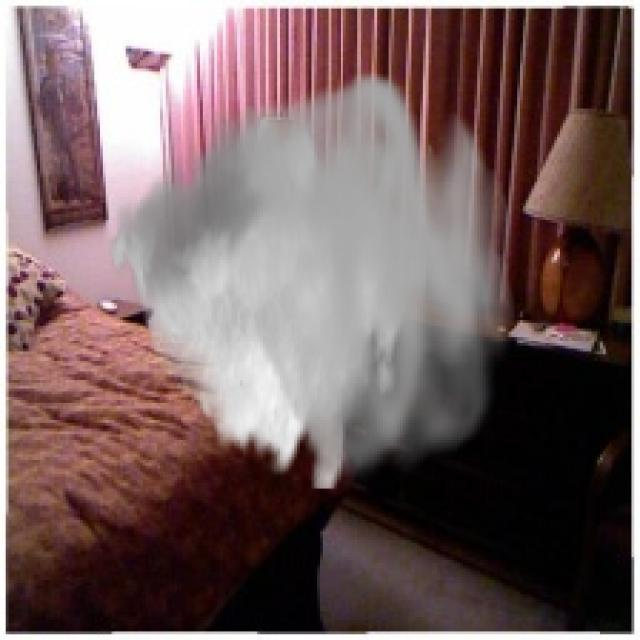smoke: (106, 66, 514, 488)
